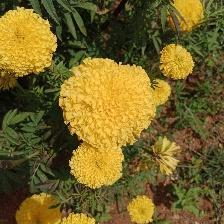marigold: (59, 56, 158, 151)
